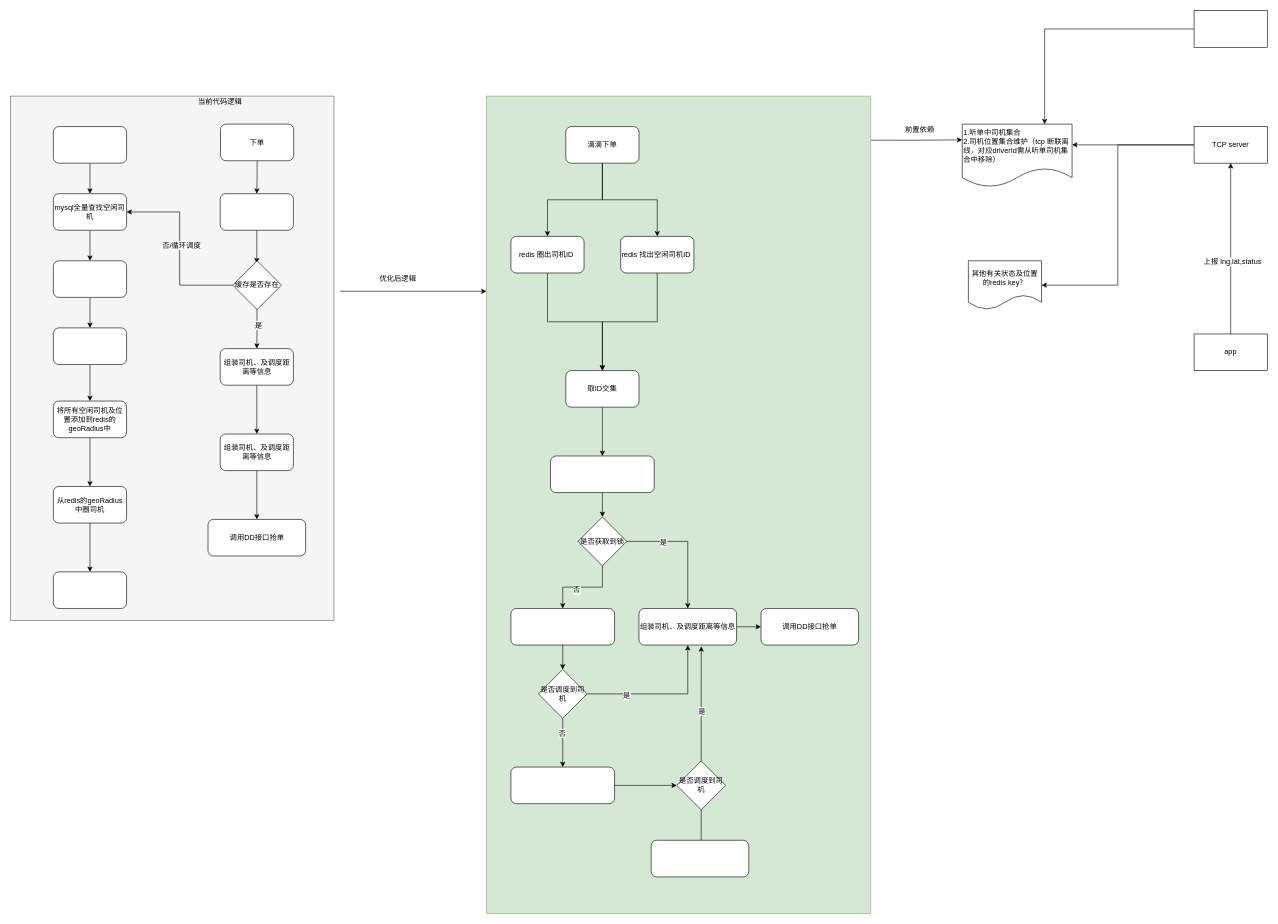
Image size: 1278x924. Some labels were removed from this diagram. Here are the shapes that lost their labels. From the top down, the box of each, then its label:
(1193, 10, 1267, 47): 定时任务扫描保证redis /db 数据一致性
(53, 126, 127, 163): 询价
(220, 193, 293, 230): 获取预估单调度司机列表
(53, 260, 127, 297): 遍历空闲司机， redis 查找出对应司机位置
(53, 327, 127, 364): mysql 查找出调度半径
(550, 455, 654, 493): 分布式锁司机ID
(53, 571, 127, 608): 遍历圈中司机集合并构造结果集
(510, 608, 615, 645): 未获取到司机锁，则找下一个
(510, 766, 615, 804): 遍历完成未获取到锁， 调度任务进入调度线程池持续调度
(651, 840, 749, 877): 最终失败
